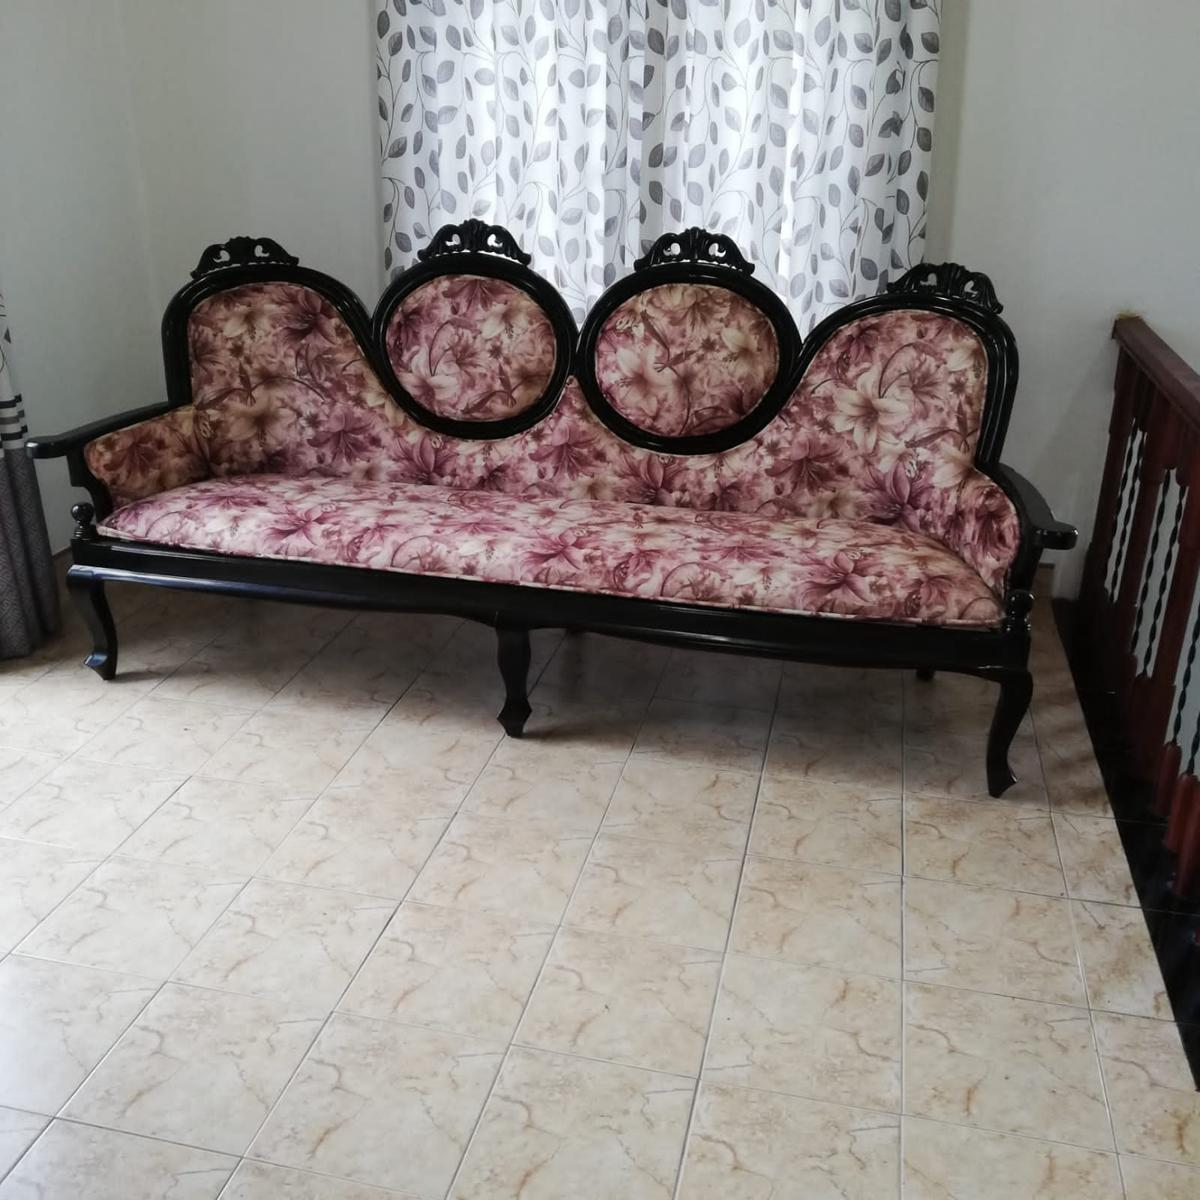Sofa: (22, 218, 1080, 803)
